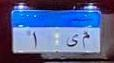1: (31, 30, 40, 49)
meem: (81, 30, 91, 49)
yaa: (64, 33, 79, 48)
